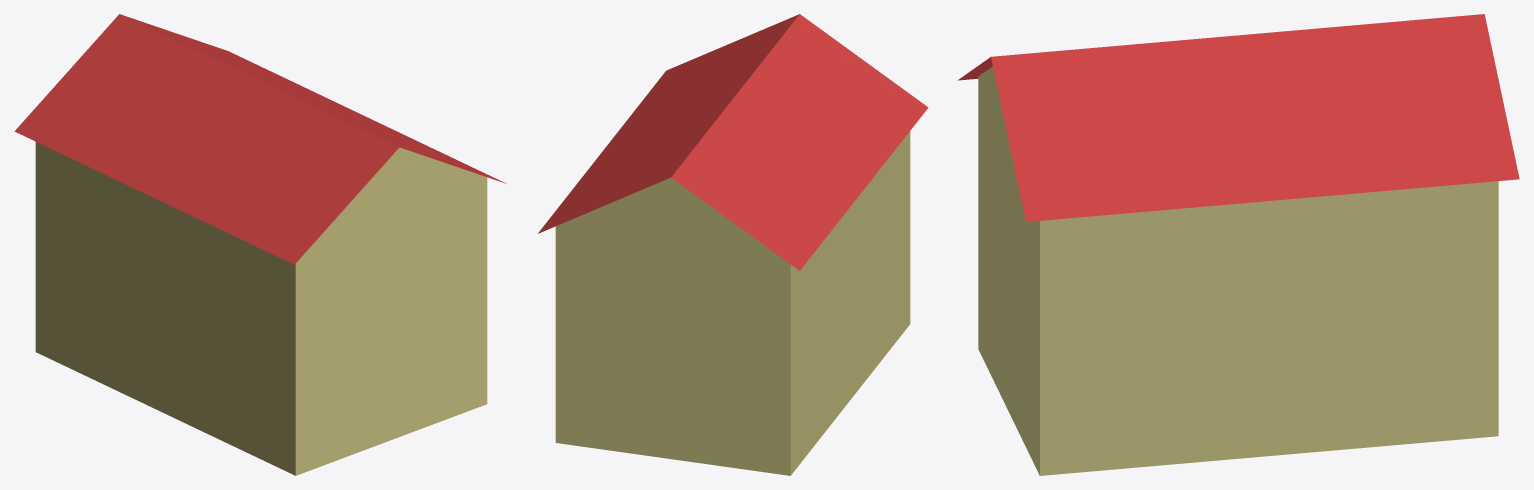
The picture shows the model from 3 angles, left to right: view 1: azimuth 30°, elevation 25°; view 2: azimuth 150°, elevation 25°; view 3: azimuth 270°, elevation 25°; orthographic projection. The views are drawn at different scales.
Size of the model in its own units: 12.2 by 15.73 by 10.99.
